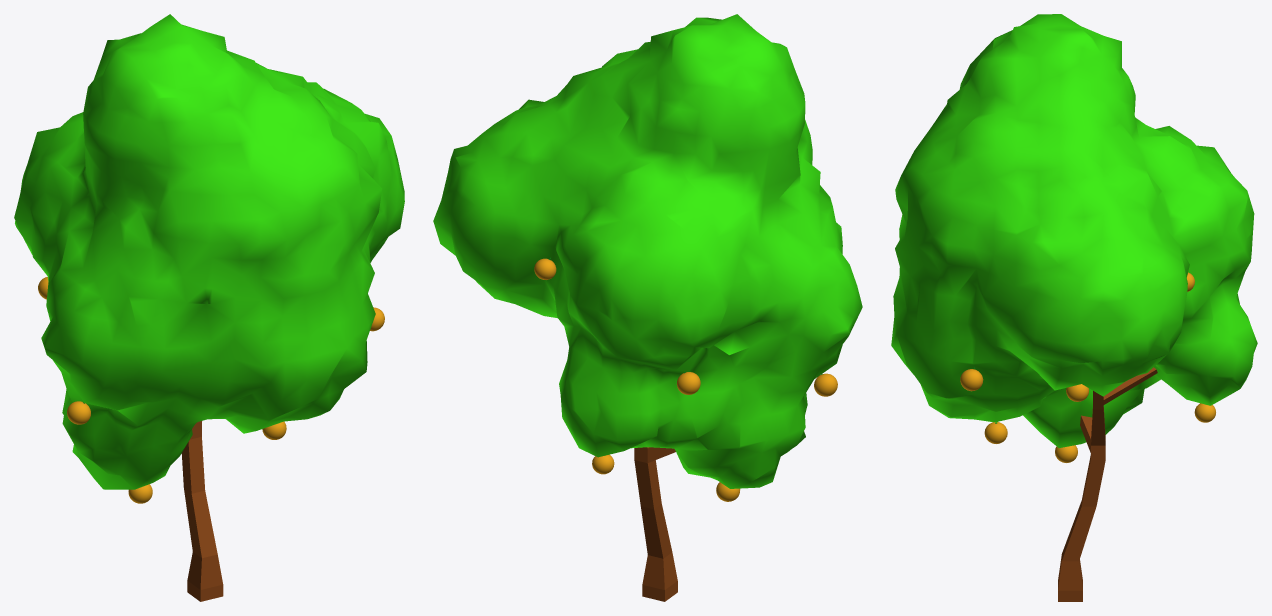
Rendered from SM_OrangeTree_001.fbx.
3 views of the same model, side by side, from view 1: azimuth 30°, elevation 25°; view 2: azimuth 150°, elevation 25°; view 3: azimuth 270°, elevation 25° (orthographic). The views are drawn at different scales.
Parts seen in each view (by area): view 1: OrangeTree_01; view 2: OrangeTree_01; view 3: OrangeTree_01.
Part boxes in pixels (left/top/right/bottom): OrangeTree_01: left=14, top=14, right=404, bottom=601; OrangeTree_01: left=433, top=14, right=862, bottom=601; OrangeTree_01: left=891, top=14, right=1257, bottom=601.
Bounding box in the file's own units: 186 × 276 × 167.
